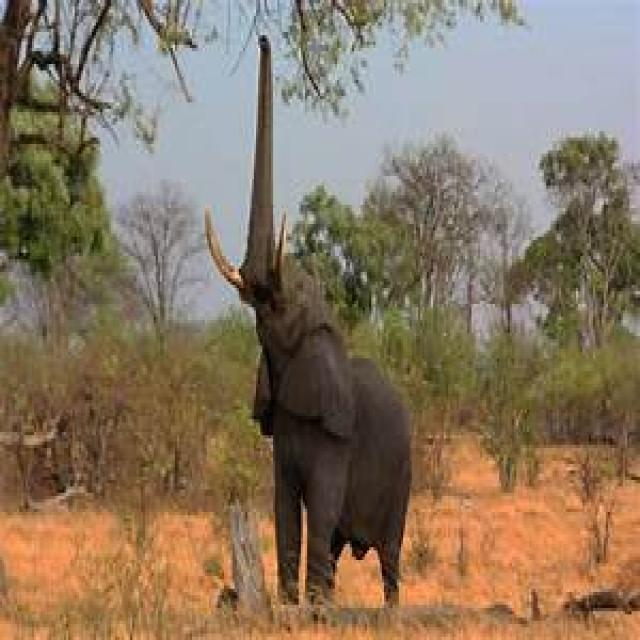elephant: (203, 38, 416, 611)
